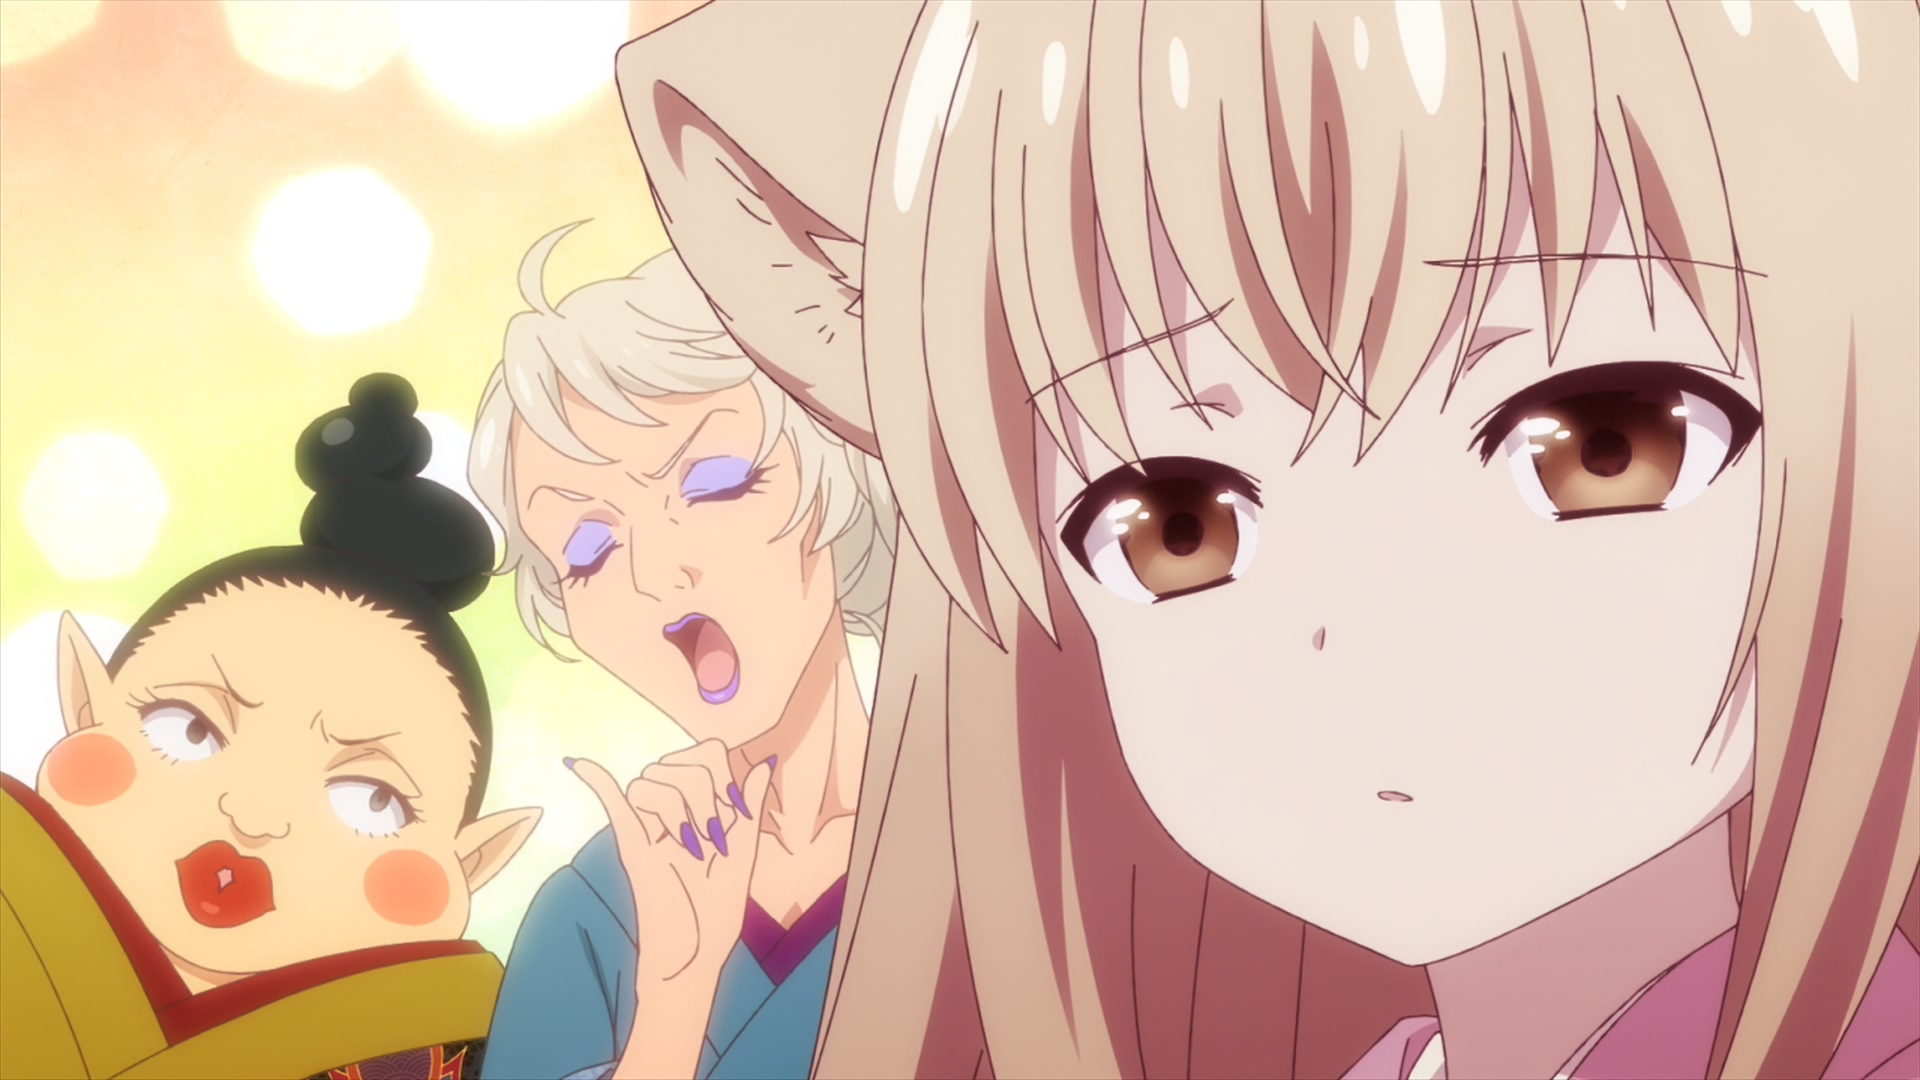其他: (1, 375, 545, 1080), (468, 220, 898, 1080)
柚: (615, 1, 1920, 1080)
